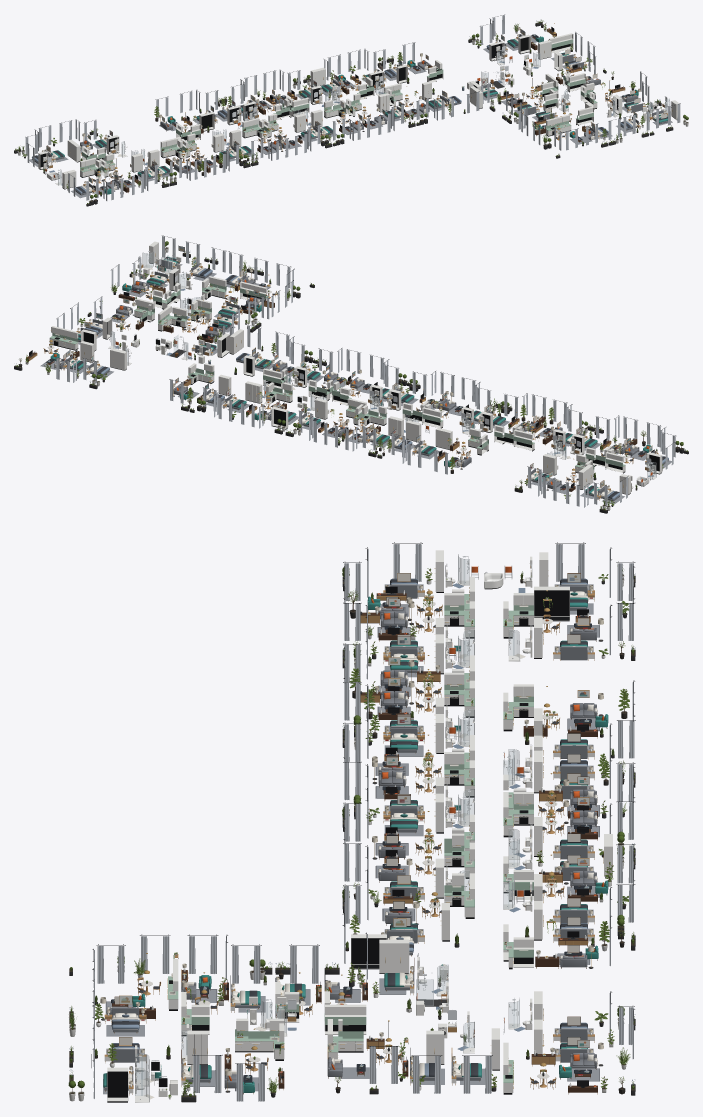
3 renders of one model, top to bottom at view 1: azimuth 30°, elevation 25°; view 2: azimuth 150°, elevation 25°; view 3: azimuth 270°, elevation 25°, orthographic. The views are drawn at different scales.
Parts seen in each view (by area): view 1: in_L05_u72_furn_kitchen_run1__int_white_gloss, in_L05_u69_furn_kitchen_run1__int_white_gloss; view 2: in_L05_u69_furn_kitchen_run1__int_white_gloss; view 3: in_L05_u71_furn_kitchen_run1__int_white_gloss, in_L05_u83_furn_wardrobe1__int_white_gloss, in_L05_u74-a_furn_kitchen_run1__int_white_gloss, in_L05_u74-a_furn_wardrobe1__int_white_gloss, in_L05_u75_furn_wardrobe2__int_white_gloss.
Boxes of the visible parts, x1,y1,x2,y2 form: in_L05_u72_furn_kitchen_run1__int_white_gloss: (546,114,571,136); in_L05_u69_furn_kitchen_run1__int_white_gloss: (549,33,573,53); in_L05_u69_furn_kitchen_run1__int_white_gloss: (49,326,78,350); in_L05_u71_furn_kitchen_run1__int_white_gloss: (235,1018,284,1052); in_L05_u83_furn_wardrobe1__int_white_gloss: (534,586,569,621); in_L05_u74-a_furn_kitchen_run1__int_white_gloss: (325,1004,366,1034); in_L05_u74-a_furn_wardrobe1__int_white_gloss: (379,939,409,973); in_L05_u75_furn_wardrobe2__int_white_gloss: (351,934,386,969).
Size of the model in its own units: 82.63 by 3 by 38.04.
